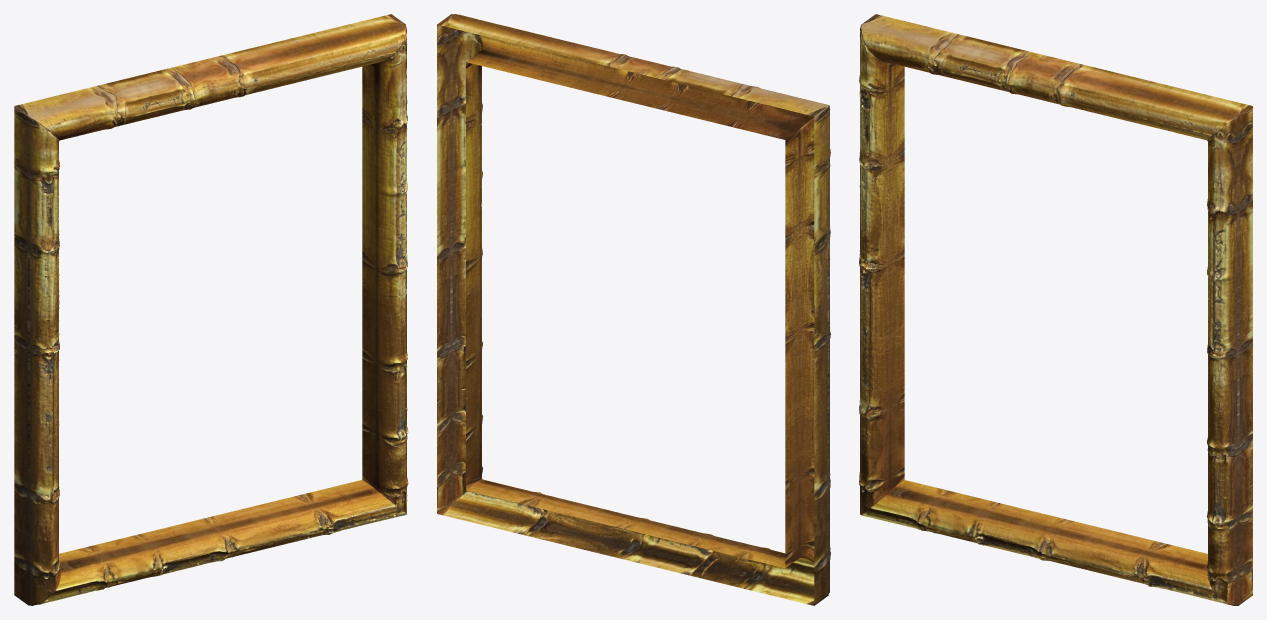
Rendered from ifac-gilt-bamboo.glb.
3 views of the same model, side by side, from view 1: azimuth 30°, elevation 25°; view 2: azimuth 150°, elevation 25°; view 3: azimuth 330°, elevation 25° (orthographic).
Visible parts, largest first — view 1: frame1; view 2: frame1; view 3: frame1.
Part boxes in pixels (<box>): frame1: <box>14,14,408,605</box>; frame1: <box>437,14,830,605</box>; frame1: <box>859,14,1252,605</box>.
Size of the model in its own units: 0.3292 by 0.4079 by 0.0375.
1 material, 1 textured.
